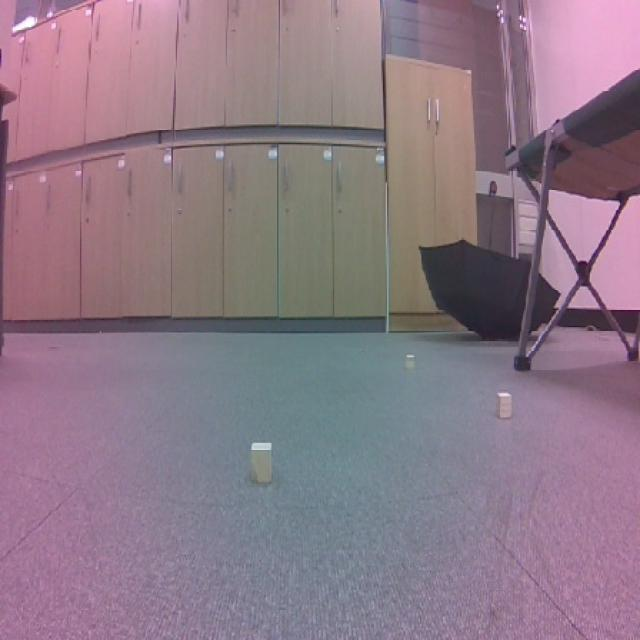obstacle: (240, 436, 284, 494), (493, 385, 518, 421)
